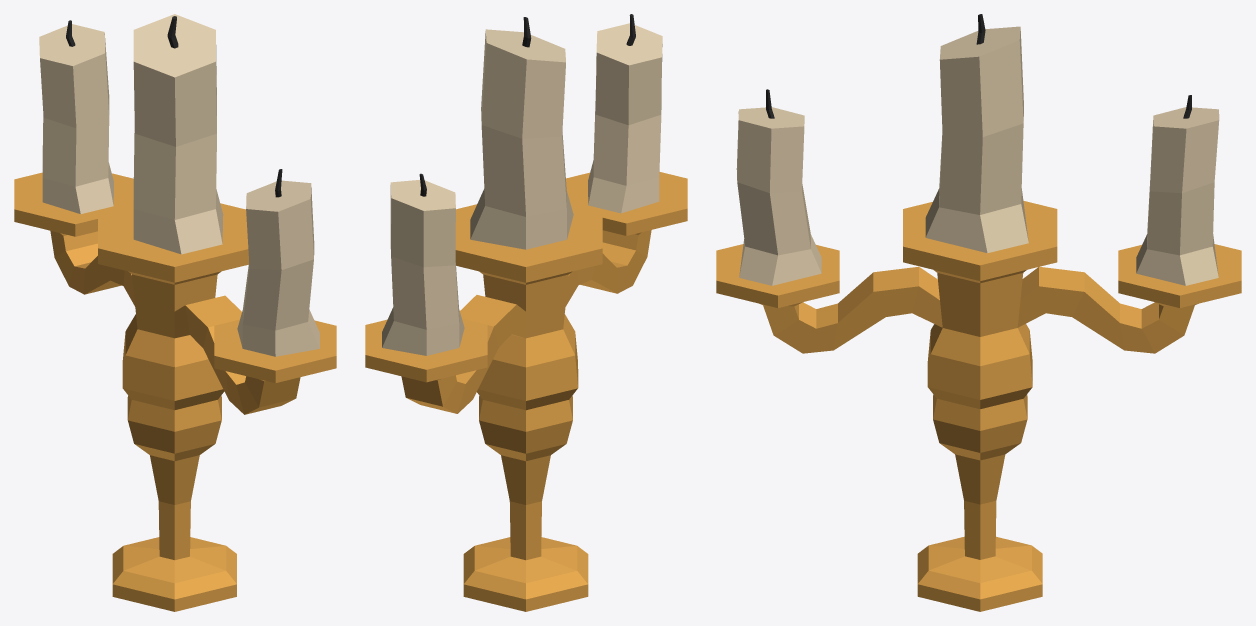
The model's file is Crypt_Candelabrum.glb.
3 renders of one model, left to right at view 1: azimuth 30°, elevation 25°; view 2: azimuth 150°, elevation 25°; view 3: azimuth 270°, elevation 25°, orthographic.
Parts seen in each view (by area): view 1: Candelabrum; view 2: Candelabrum; view 3: Candelabrum.
Part boxes in pixels (x1,y1,x2,y2): Candelabrum: (14,14,336,611); Candelabrum: (365,14,687,611); Candelabrum: (716,14,1241,611).
Size of the model in its own units: 0.3061 by 1.08 by 0.9028.
